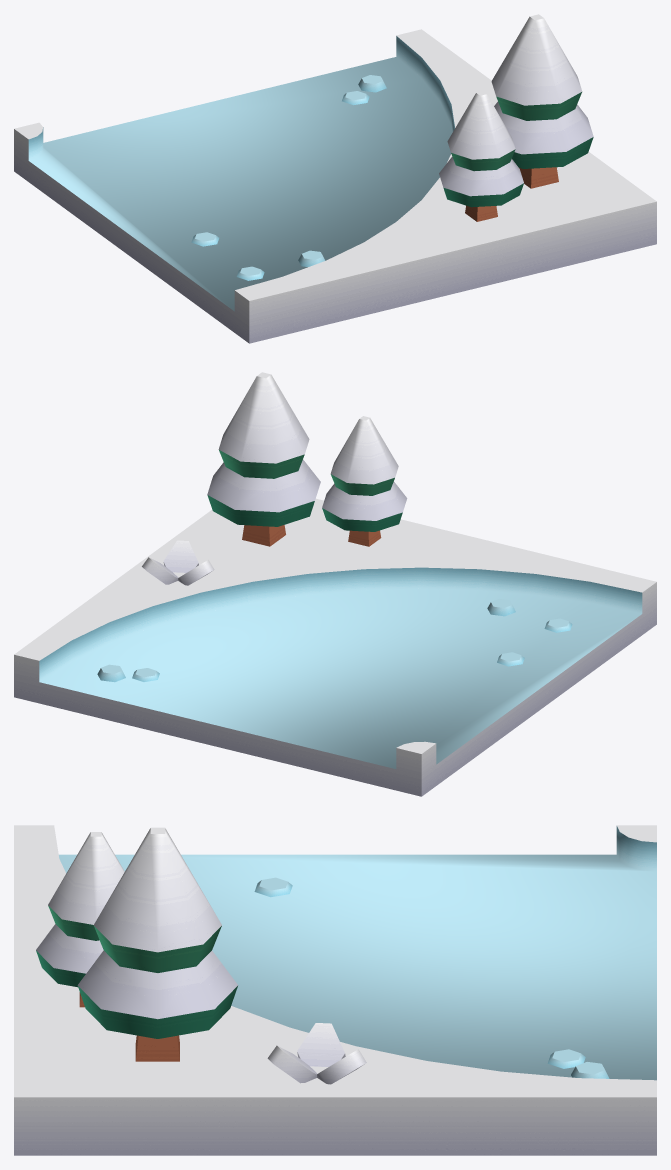
File: tower-defense-kit--snow-tile-wide-corner.glb
3 views of the same model, one above another, from view 1: azimuth 30°, elevation 25°; view 2: azimuth 150°, elevation 25°; view 3: azimuth 270°, elevation 25° (orthographic). The views are drawn at different scales.
Visible parts, largest first — view 1: snow-tile-wide-corner; view 2: snow-tile-wide-corner; view 3: snow-tile-wide-corner.
Boxes of the visible parts, x1,y1,x2,y2 form: snow-tile-wide-corner: [14, 14, 656, 343]; snow-tile-wide-corner: [14, 372, 656, 796]; snow-tile-wide-corner: [14, 825, 656, 1155].
Size of the model in its own units: 2 by 0.96 by 2.
Materials: 1 (1 with a texture image).
